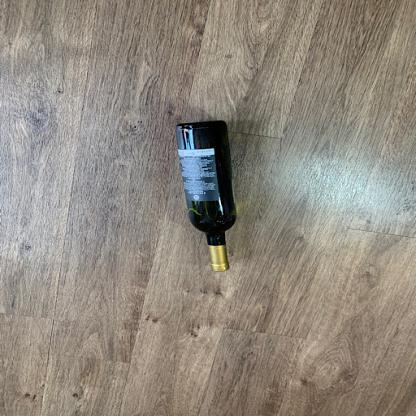trash: (172, 122, 243, 270)
